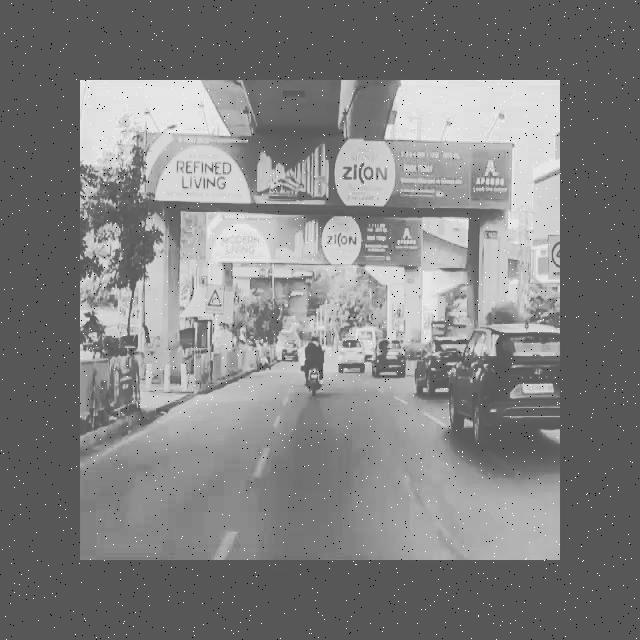Bike: (302, 330, 330, 405)
Car: (472, 312, 563, 462), (417, 332, 472, 398), (369, 337, 422, 383), (336, 332, 372, 378)
